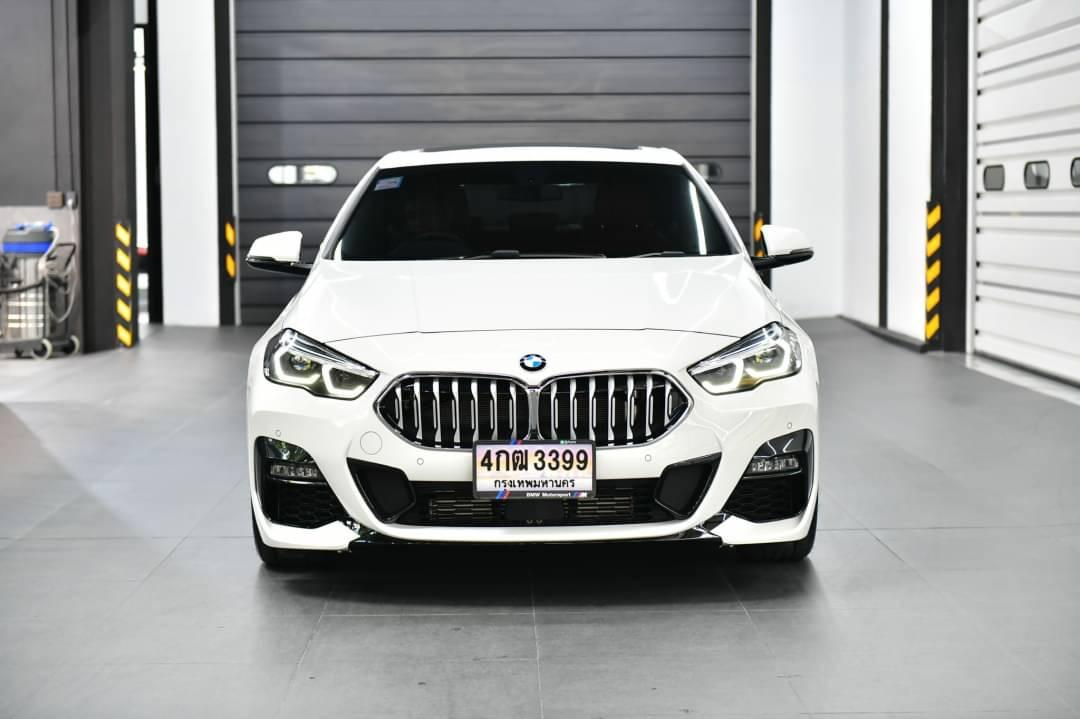license-plate: (472, 437, 597, 501)
